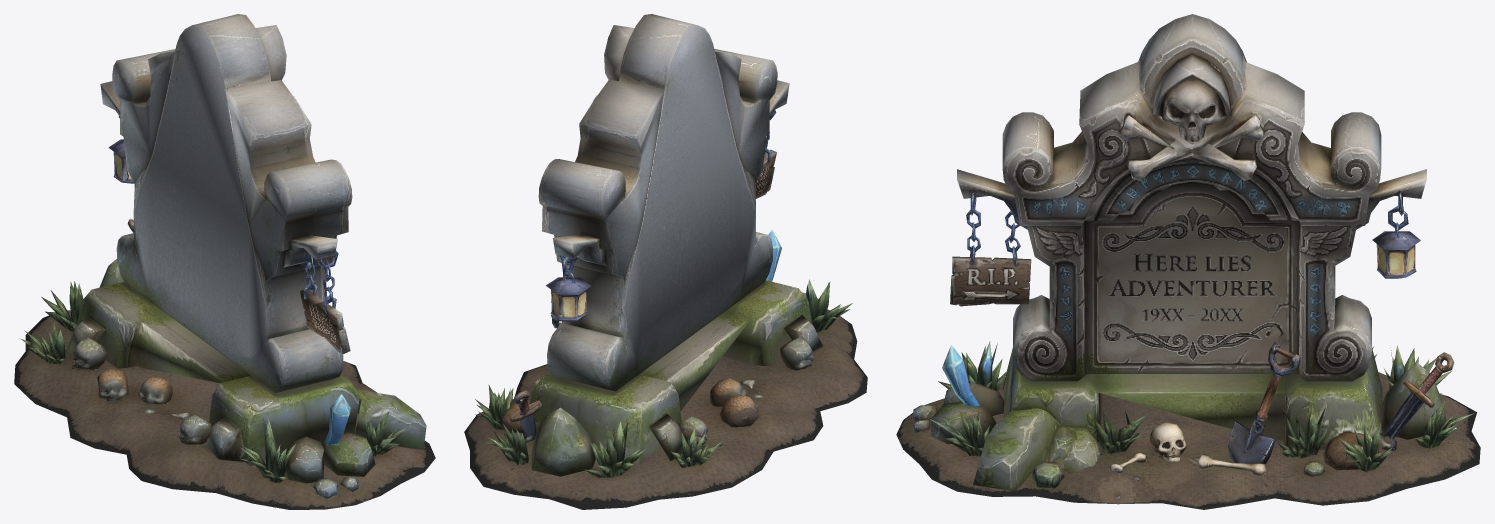
File: tripo_convert_eae3cd0f-8ca2-4c19-ab2f-6e0fab62e0d5.fbx
3 views of the same model, side by side, from view 1: azimuth 30°, elevation 25°; view 2: azimuth 150°, elevation 25°; view 3: azimuth 270°, elevation 25° (orthographic). The views are drawn at different scales.
Visible parts, largest first — view 1: tripo_node_eae3cd0f; view 2: tripo_node_eae3cd0f; view 3: tripo_node_eae3cd0f.
Part boxes in pixels (bbox=[...]): tripo_node_eae3cd0f: bbox=[14, 14, 435, 509]; tripo_node_eae3cd0f: bbox=[464, 14, 867, 509]; tripo_node_eae3cd0f: bbox=[896, 14, 1480, 509].
Bounding box in the file's own units: 0.6113 × 0.7754 × 0.998.
Materials: 1 (1 with a texture image).
